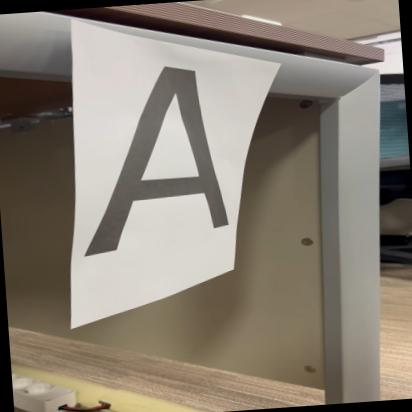seat: (47, 48, 260, 260)
